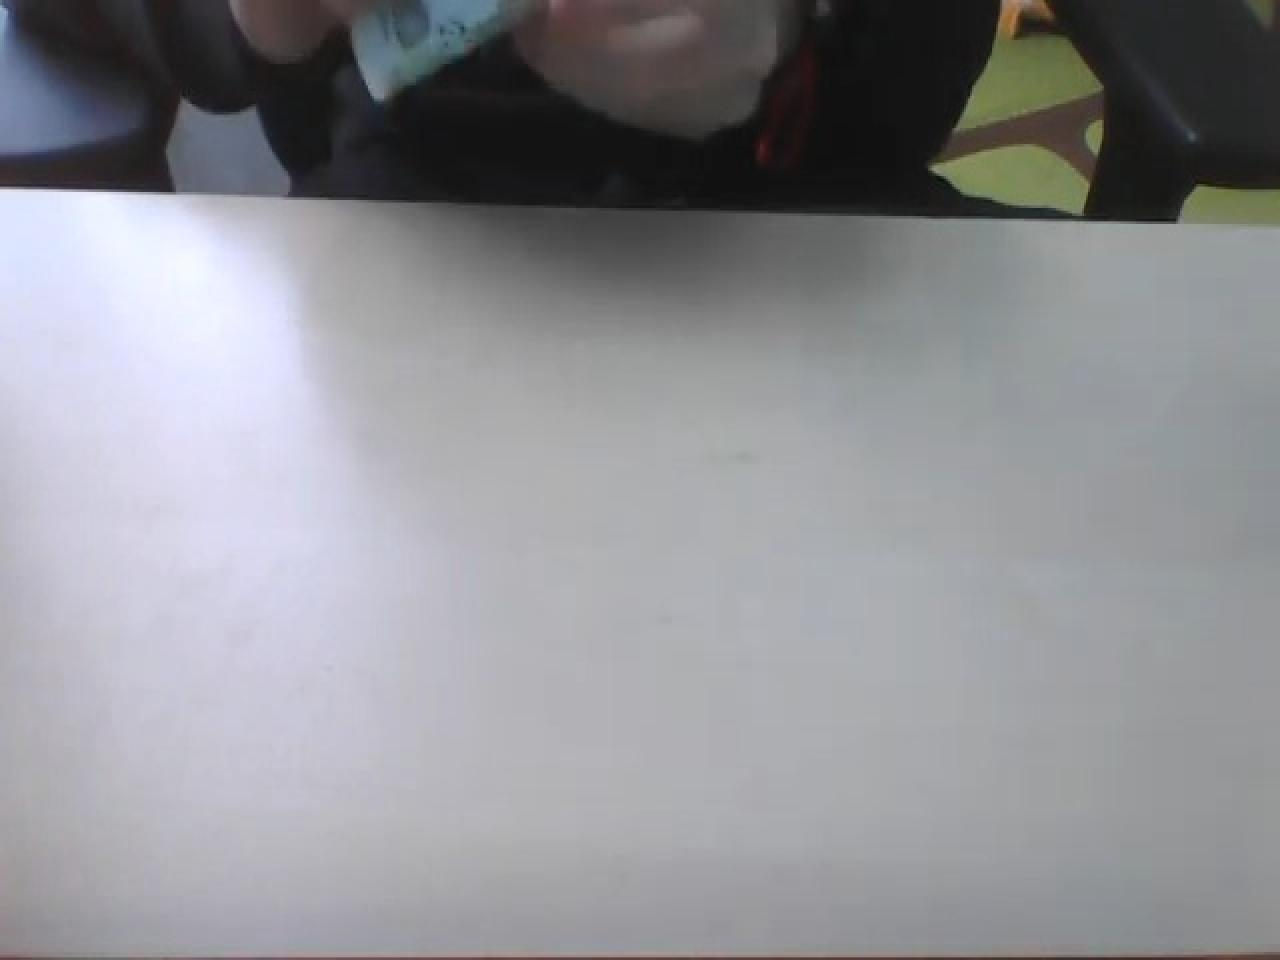100leva: (4, 0, 1274, 219), (346, 0, 546, 107)
